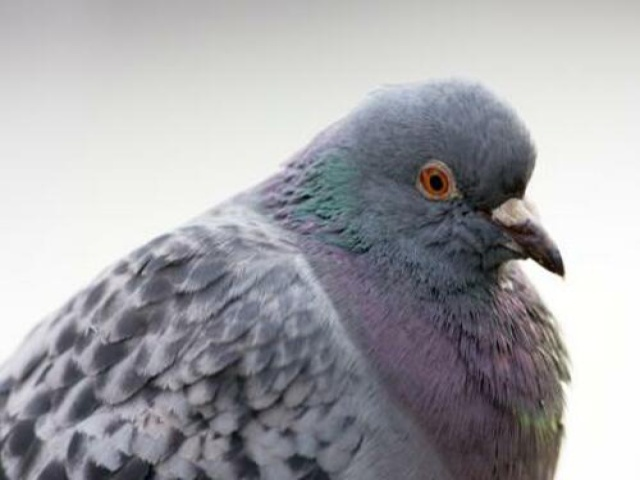Pigeon: (1, 68, 576, 478)
